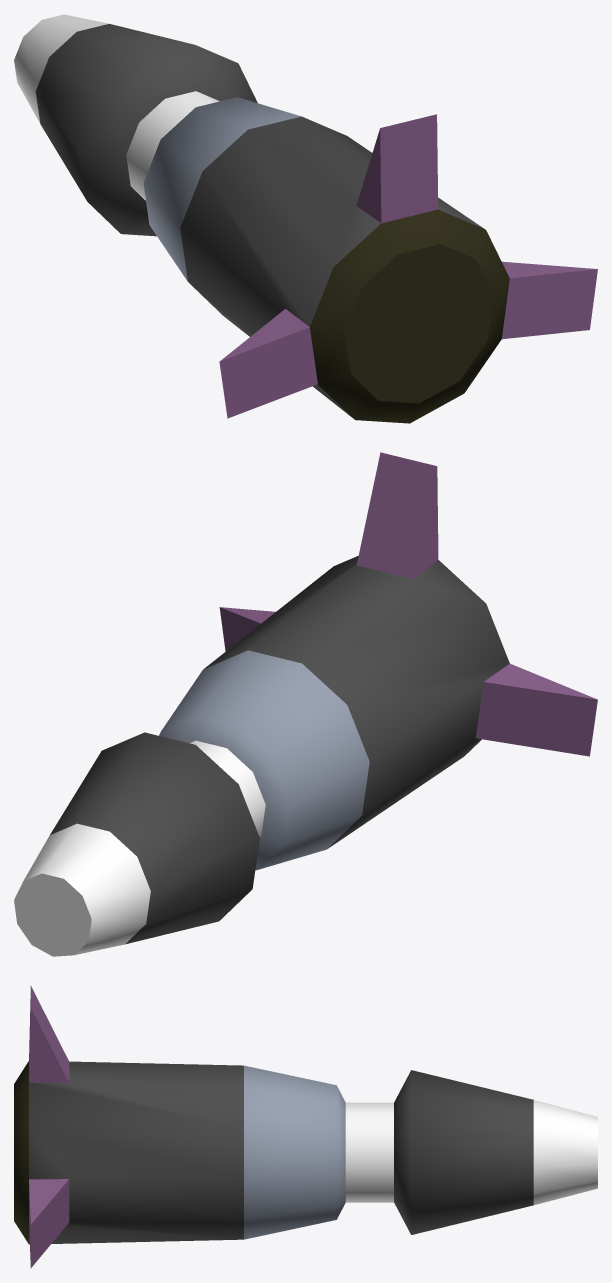
The model's file is sc_enemyMissile_A.FBX.
3 renders of one model, top to bottom at view 1: azimuth 30°, elevation 25°; view 2: azimuth 150°, elevation 25°; view 3: azimuth 270°, elevation 25°, orthographic. The views are drawn at different scales.
Visible parts, largest first — view 1: sc_enemyMissile_A, sc_enemyMissile_A_glow; view 2: sc_enemyMissile_A, sc_enemyMissile_A_glow; view 3: sc_enemyMissile_A, sc_enemyMissile_A_glow.
Boxes of the visible parts, x1,y1,x2,y2 form: sc_enemyMissile_A: [35, 24, 597, 423]; sc_enemyMissile_A_glow: [14, 14, 219, 200]; sc_enemyMissile_A: [50, 452, 597, 944]; sc_enemyMissile_A_glow: [14, 740, 265, 956]; sc_enemyMissile_A: [14, 985, 533, 1268]; sc_enemyMissile_A_glow: [345, 1100, 597, 1205].
Size of the model in its own units: 0.6671 by 0.5078 by 1.12.
